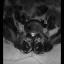CCS_normal: (32, 30, 34, 38)
LFS_normal: (35, 30, 37, 36)
LLS_normal: (34, 30, 35, 36)
RFS_stenosis: (28, 29, 30, 35)
RLS_normal: (30, 30, 32, 37)
